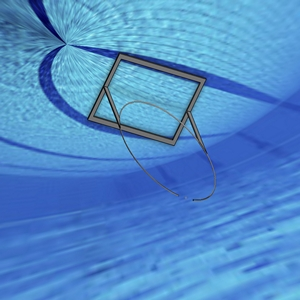circle: (82, 50, 219, 203)
